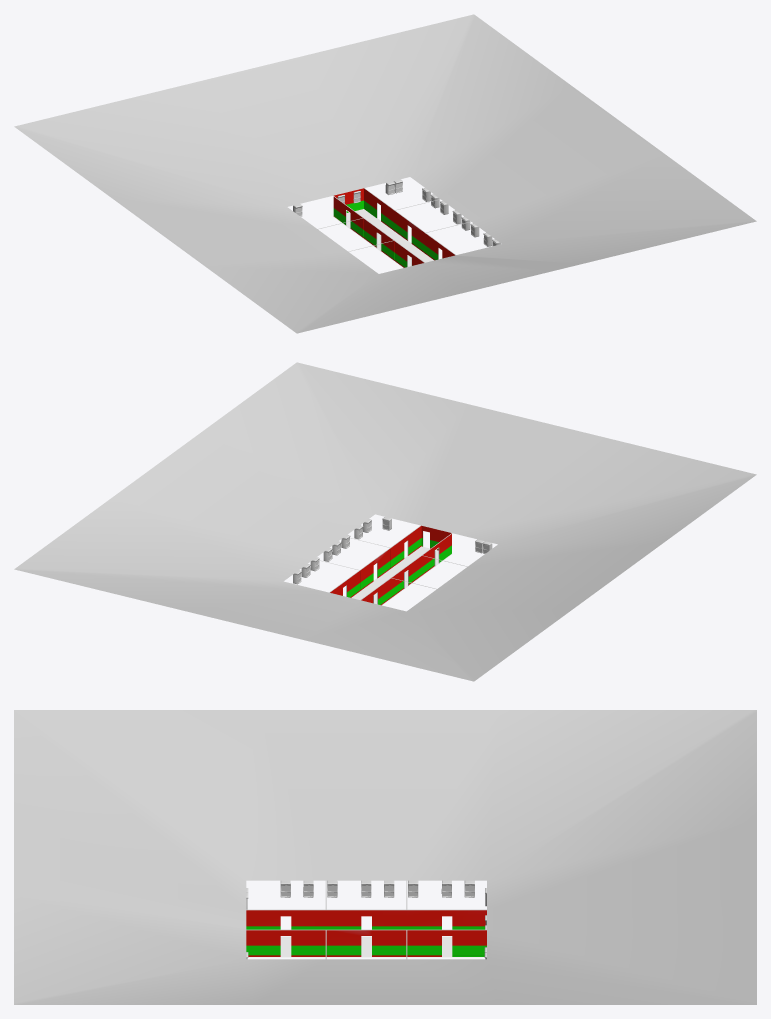
Rendered from Hall_complet.fbx.
3 renders of one model, top to bottom at view 1: azimuth 30°, elevation 25°; view 2: azimuth 150°, elevation 25°; view 3: azimuth 270°, elevation 25°, orthographic. The views are drawn at different scales.
Parts seen in each view (by area): view 1: cache_black_ext, Hall, Windows, Ground; view 2: cache_black_ext, Hall, Windows, Ground; view 3: cache_black_ext, Hall, Windows, Ground, Windows_sky.
Boxes of the visible parts, <box> form: cache_black_ext: <box>14,14,756,333</box>; Hall: <box>333,188,454,267</box>; Windows: <box>293,179,500,246</box>; Ground: <box>333,209,433,267</box>; cache_black_ext: <box>14,362,756,681</box>; Hall: <box>330,525,451,605</box>; Windows: <box>293,517,492,584</box>; Ground: <box>351,546,451,605</box>; cache_black_ext: <box>14,710,756,1004</box>; Hall: <box>246,910,486,956</box>; Windows: <box>246,880,486,959</box>; Ground: <box>248,937,484,957</box>; Windows_sky: <box>281,885,474,896</box>.
Size of the model in its own units: 6060 by 847 by 6453.
